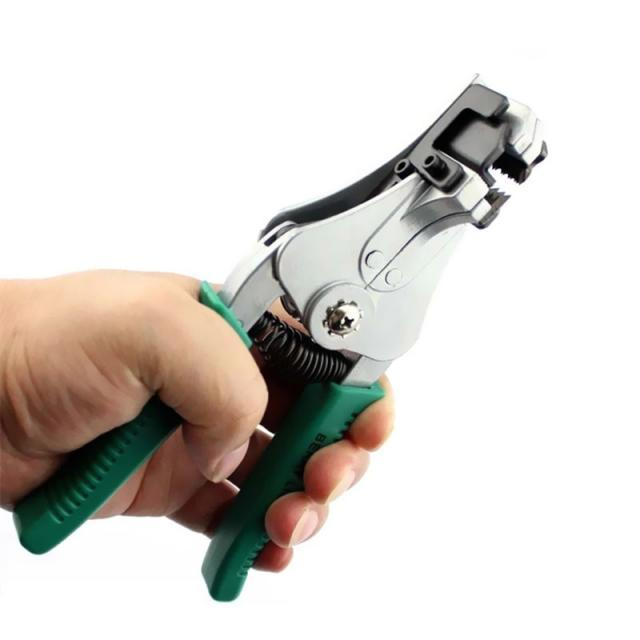pliers: (8, 64, 560, 608)
